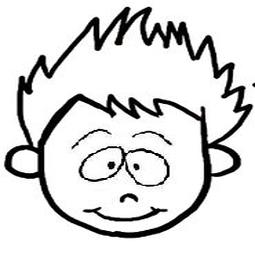ear: (196, 142, 255, 193), (1, 142, 43, 188)
eye: (75, 143, 124, 185), (123, 147, 172, 187)
eyebrow: (122, 124, 177, 146), (67, 125, 110, 150)
mouth: (80, 204, 175, 224)
nose: (115, 190, 139, 205)
